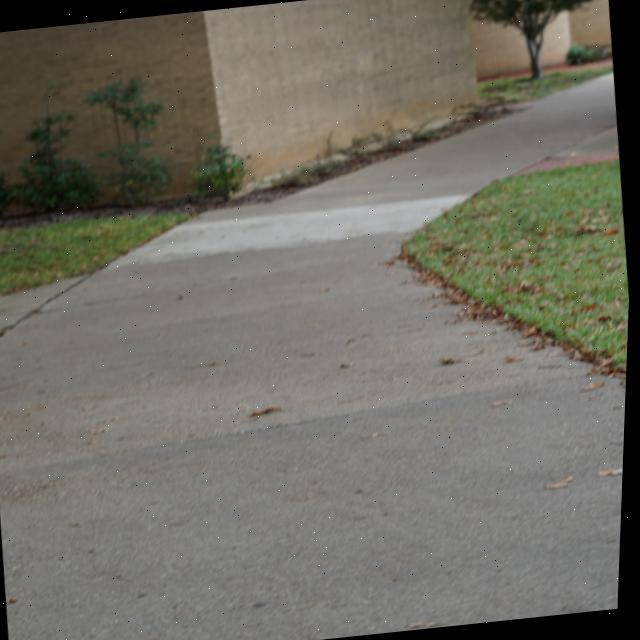Sidewalk: (0, 72, 629, 640)
